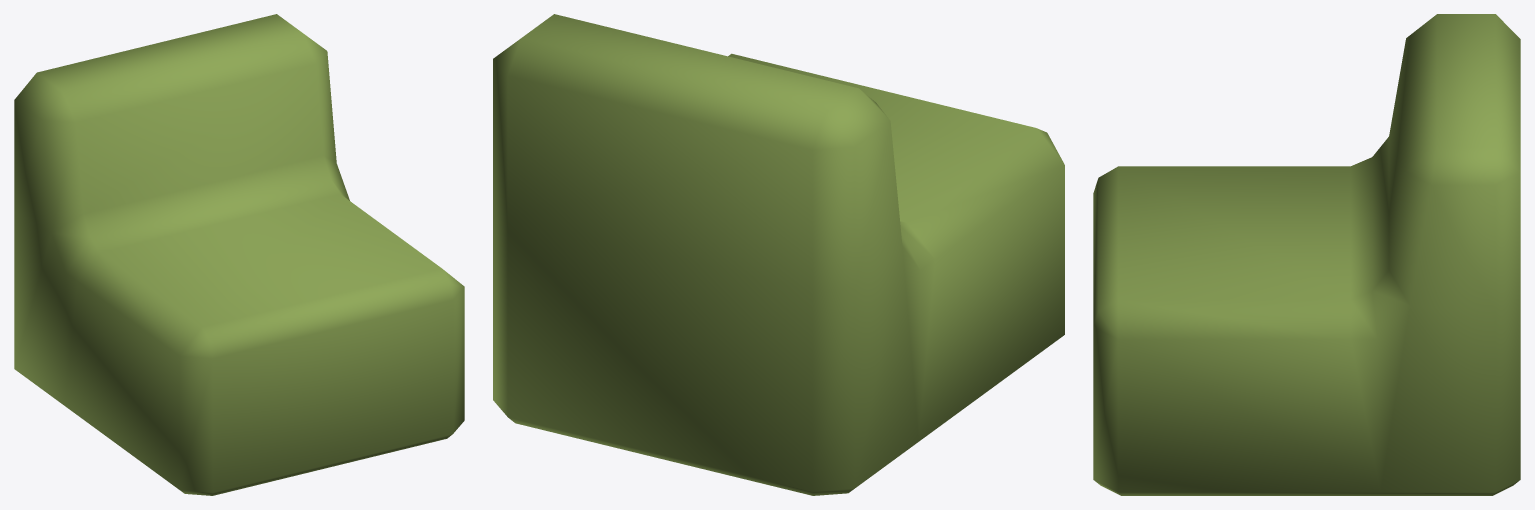
File: sofa3.FBX
3 renders of one model, left to right at view 1: azimuth 30°, elevation 25°; view 2: azimuth 150°, elevation 25°; view 3: azimuth 270°, elevation 25°, orthographic. The views are drawn at different scales.
Parts seen in each view (by area): view 1: sofa3; view 2: sofa3; view 3: sofa3.
Part boxes in pixels (bbox=[...]): sofa3: bbox=[14, 14, 464, 495]; sofa3: bbox=[493, 14, 1064, 495]; sofa3: bbox=[1093, 14, 1520, 495].
Size of the model in its own units: 87.2 by 86.93 by 99.18.
1 material, 1 textured.
